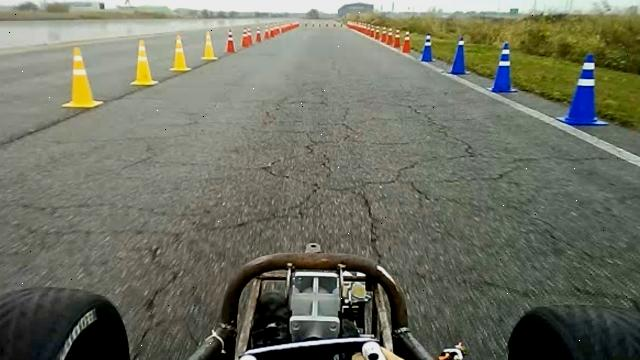blue cone: (556, 53, 609, 126), (490, 41, 518, 93), (448, 36, 471, 75), (420, 33, 436, 62)
red cone: (224, 28, 237, 54), (241, 26, 252, 47), (255, 26, 262, 43)
yellow cone: (62, 46, 103, 109), (130, 39, 158, 86), (170, 34, 191, 72), (201, 30, 218, 60)
